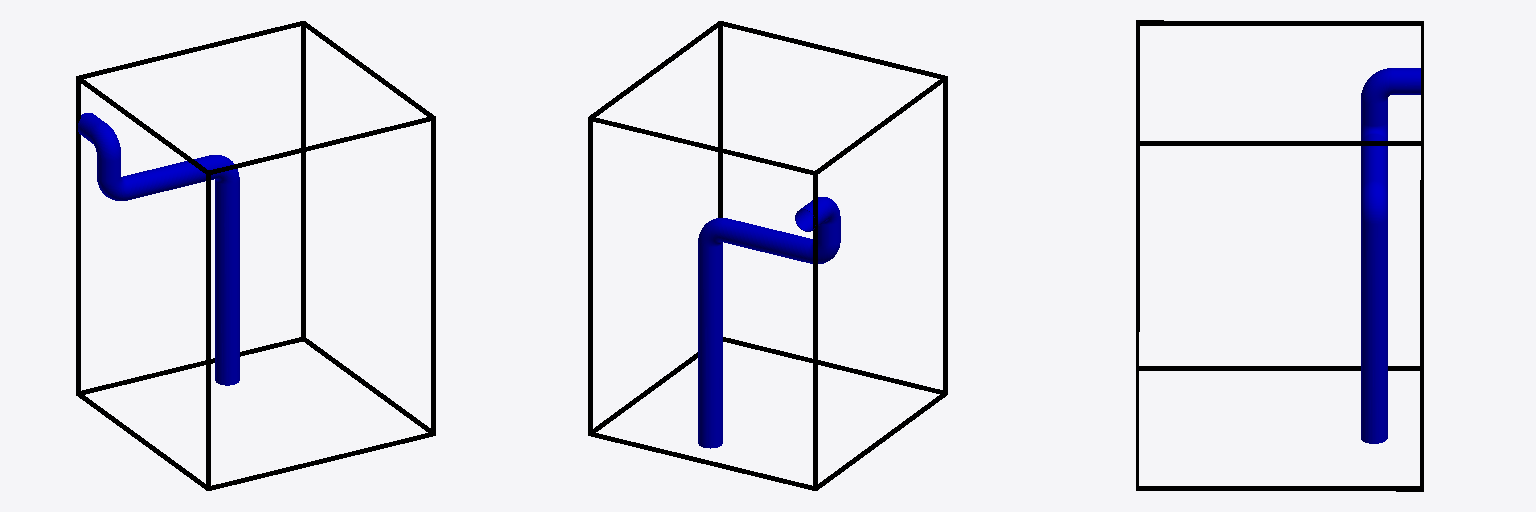
URDF robot description (cell):
<?xml version="1.0"?>

<robot name="cell">
  <material name="blue">
    <color rgba="0 0 0.8 1"/>
  </material>
  <material name="black">
    <color rgba="0 0 0 1"/>
  </material>
  <material name="white">
    <color rgba="1 1 1 1"/>
  </material>

  <link name="base_link">
    <visual>
      <origin rpy="1.57 0 0" xyz="-0.75 0.75 0.01"/>
      <geometry>
        <mesh filename="package://cf_inspection/meshes/cell.STL" scale="0.001 0.001 0.001"/>
      </geometry>
      <material name="black"/>
    </visual>
  </link>

  <link name="tube">
    <visual>
      <origin rpy="1.57 0 0" xyz="-0.75 0.75 0.01"/>
      <geometry>
        <mesh filename="package://cf_inspection/meshes/tube.STL" scale="0.001 0.001 0.001"/>
      </geometry>
      <material name="blue"/>
    </visual>
  </link>

  <joint name="base_to_right_leg" type="fixed">
    <parent link="base_link"/>
    <child link="tube"/>
  </joint>

</robot>

--- Facts derived from the render (not from the file) ---
3 views of the same robot in one strip: view 1: azimuth 30°, elevation 25°; view 2: azimuth 150°, elevation 25°; view 3: azimuth 270°, elevation 25° (orthographic).
Model cell with 2 links and 1 joints (1 fixed), rooted at base_link, posed every joint at zero.
Visible links, largest first — view 1: base_link, tube; view 2: base_link, tube; view 3: tube, base_link.
Link boxes in pixels (x1,y1,x2,y2): base_link: (76, 21, 435, 490); tube: (78, 113, 239, 385); base_link: (588, 21, 947, 490); tube: (698, 197, 840, 448); tube: (1361, 68, 1420, 443); base_link: (1136, 20, 1423, 491).
Bounding box of the posed robot: 1.5 × 1.5 × 2 m (x, y, z).
Meshes: 2 distinct files referenced, 2 mesh visuals loaded (2 binary STL).